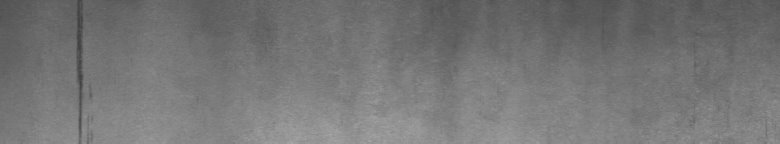hd: (71, 4, 93, 136)
